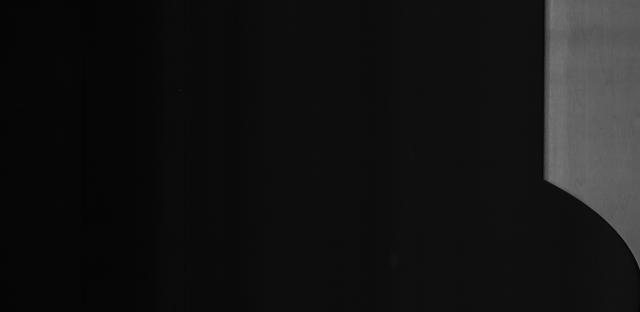crescent_gap: (533, 171, 640, 285)
